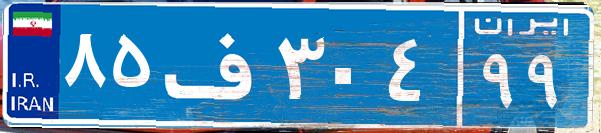0: (330, 28, 385, 110)
3: (273, 28, 330, 110)
4: (385, 28, 445, 110)
5: (110, 28, 158, 105)
8: (57, 26, 110, 107)
9: (475, 38, 525, 113), (525, 38, 570, 115)
ف: (158, 15, 273, 115)
